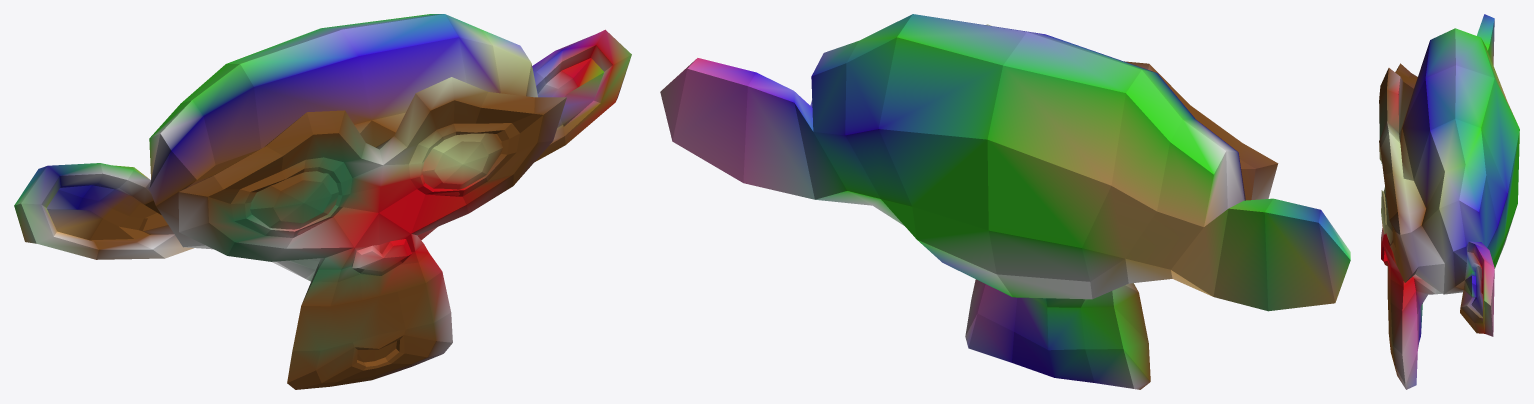
Rendered from WideMonkeyHeadVertexColored.glb.
3 renders of one model, left to right at view 1: azimuth 30°, elevation 25°; view 2: azimuth 150°, elevation 25°; view 3: azimuth 270°, elevation 25°, orthographic. The views are drawn at different scales.
Parts seen in each view (by area): view 1: Suzanne; view 2: Suzanne; view 3: Suzanne.
Boxes of the visible parts, bbox=[...] form: Suzanne: bbox=[14, 14, 631, 389]; Suzanne: bbox=[660, 14, 1350, 389]; Suzanne: bbox=[1379, 14, 1519, 389].
Bounding box in the file's own units: 7.82 × 3.98 × 1.7.
